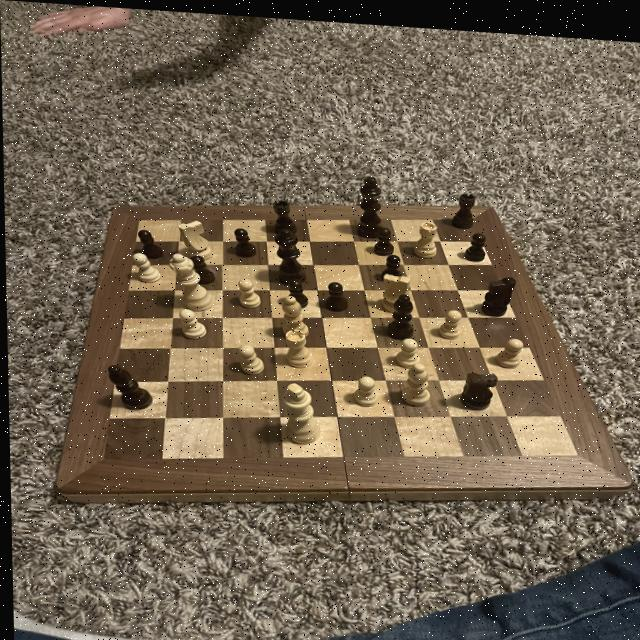bishop: (100, 356, 156, 416), (385, 287, 418, 335)
black-bishop: (350, 166, 390, 238)
black-king: (454, 361, 497, 407), (477, 266, 516, 314)
black-knight: (132, 224, 169, 262), (226, 223, 261, 257), (185, 248, 214, 286), (322, 276, 352, 311), (375, 246, 405, 280), (459, 224, 488, 259), (281, 274, 310, 307), (371, 219, 395, 253)
black-pawn: (270, 223, 309, 286)
black-queen: (447, 182, 480, 226), (266, 192, 298, 237)
black-rook: (278, 287, 309, 339), (397, 354, 430, 402)
white-bishop: (277, 377, 322, 444)
white-king: (173, 215, 212, 261), (376, 265, 411, 313)
white-knight: (487, 328, 526, 366), (126, 247, 164, 285), (175, 304, 208, 342), (231, 340, 268, 373), (348, 367, 379, 406), (232, 271, 265, 307), (434, 301, 466, 338), (392, 330, 421, 367)
white-pawn: (163, 250, 215, 312)
white-queen: (283, 324, 312, 368), (411, 212, 439, 255)
